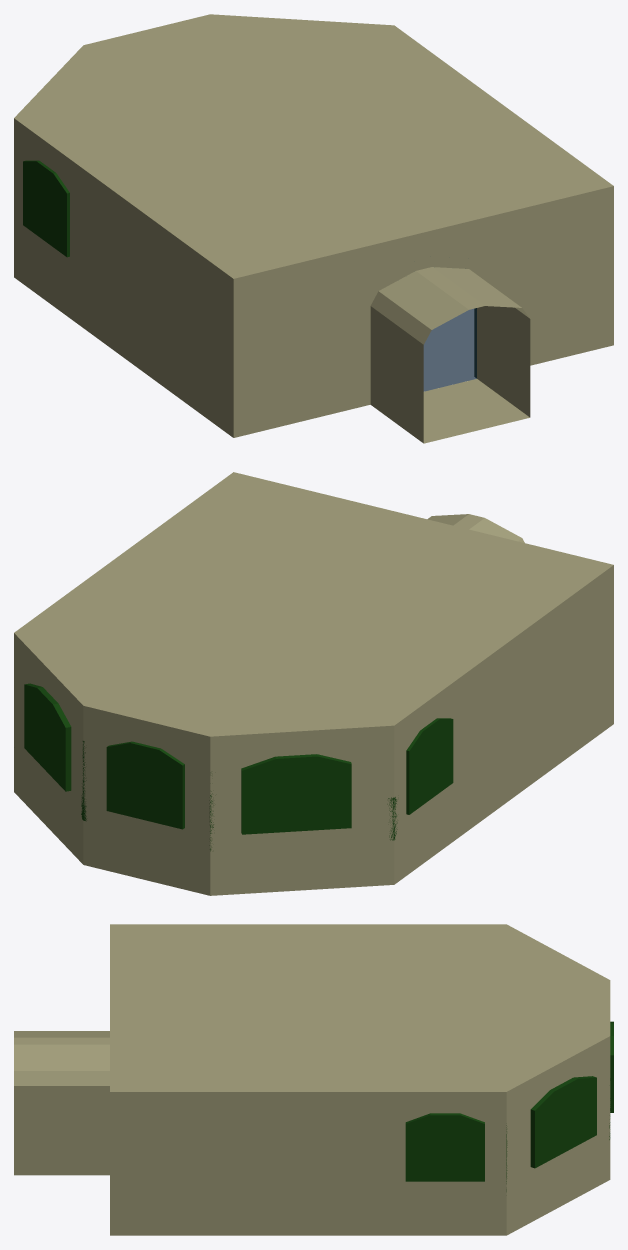
File: NewFileRoom_Einstein.fbx
3 renders of one model, top to bottom at view 1: azimuth 30°, elevation 25°; view 2: azimuth 150°, elevation 25°; view 3: azimuth 270°, elevation 25°, orthographic. The views are drawn at different scales.
Parts seen in each view (by area): view 1: techo archivo, paredes y suelo de archivo, marco de puerta, ventana04; view 2: techo archivo, paredes y suelo de archivo, ventana03, ventana01, ventana02, ventana04, marco de puerta; view 3: techo archivo, paredes y suelo de archivo, marco de puerta, ventana05, ventana02.
Part boxes in pixels (x1=…): techo archivo: x1=14, y1=14, x2=613, y2=278; paredes y suelo de archivo: x1=14, y1=118, x2=613, y2=437; marco de puerta: x1=370, y1=267, x2=530, y2=443; ventana04: x1=23, y1=160, x2=69, y2=257; techo archivo: x1=14, y1=472, x2=613, y2=736; paredes y suelo de archivo: x1=14, y1=565, x2=613, y2=895; ventana03: x1=241, y1=754, x2=351, y2=834; ventana01: x1=106, y1=741, x2=184, y2=829; ventana02: x1=24, y1=683, x2=71, y2=791; ventana04: x1=406, y1=718, x2=453, y2=814; marco de puerta: x1=427, y1=514, x2=524, y2=542; techo archivo: x1=110, y1=924, x2=610, y2=1091; paredes y suelo de archivo: x1=110, y1=1036, x2=610, y2=1235; marco de puerta: x1=14, y1=1031, x2=109, y2=1175; ventana05: x1=405, y1=1113, x2=484, y2=1181; ventana02: x1=530, y1=1076, x2=596, y2=1168.
Bounding box in the file's own units: 1018 × 400 × 1513.
